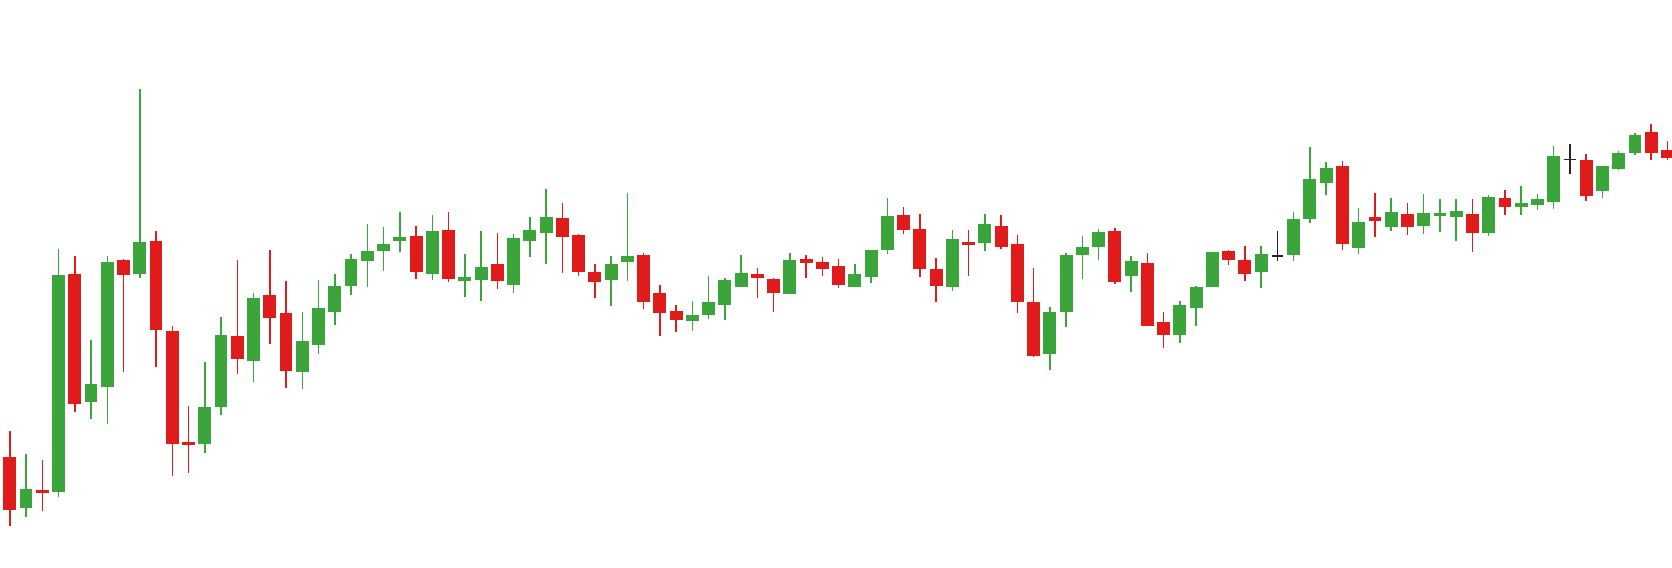buy: (85, 271, 215, 478), (929, 233, 1061, 372)
